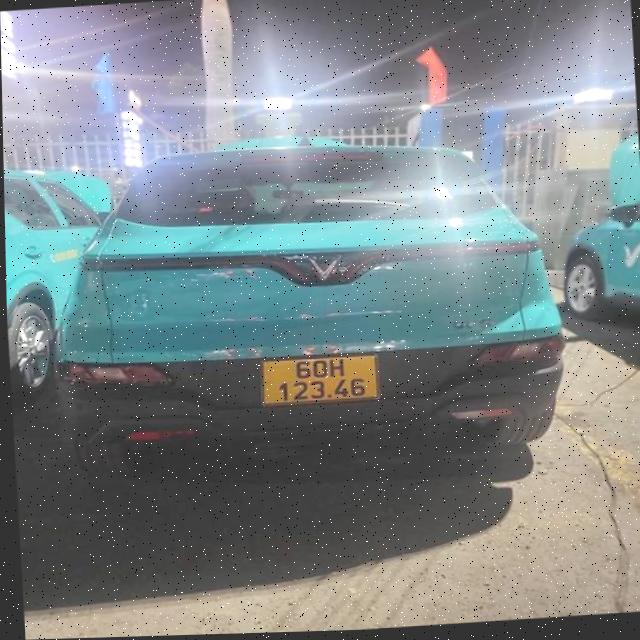car: (8, 117, 574, 517), (545, 97, 640, 400)
plate: (249, 343, 390, 414)
